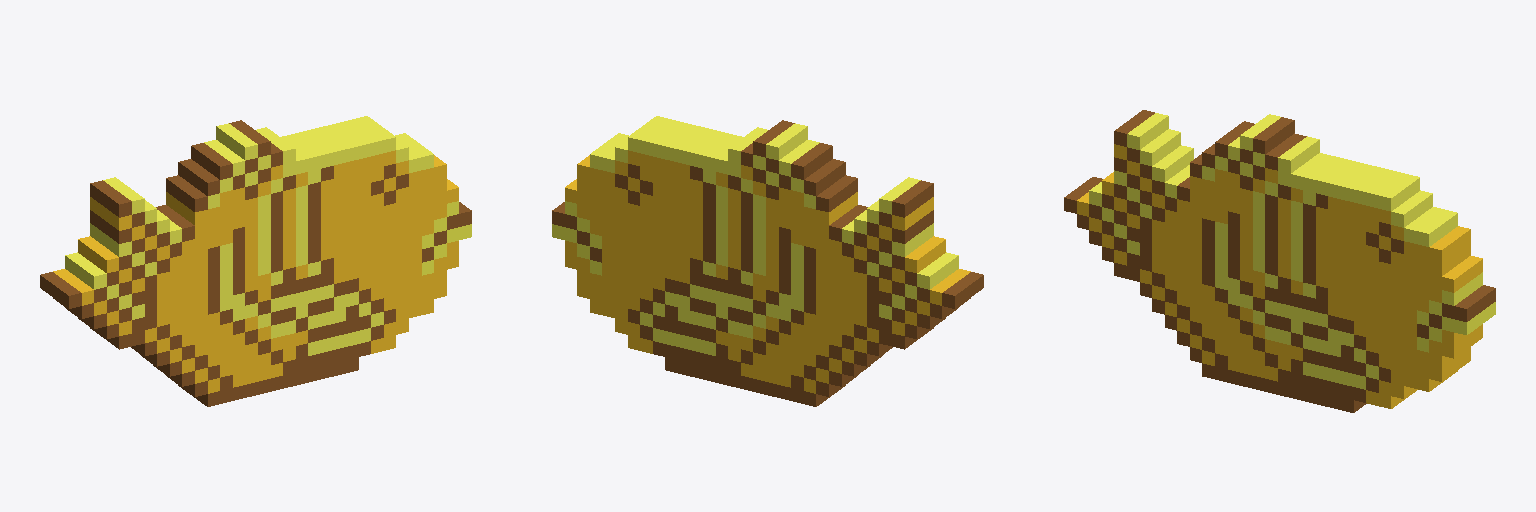
3 renders of one model, left to right at view 1: azimuth 30°, elevation 25°; view 2: azimuth 150°, elevation 25°; view 3: azimuth 330°, elevation 25°, orthographic.
Visible parts, largest first — view 1: object 1; view 2: object 1; view 3: object 1.
Part boxes in pixels (x1,y1,x2,y2): object 1: (40, 116, 471, 406); object 1: (552, 116, 983, 406); object 1: (1064, 110, 1495, 412).
Size of the model in its own units: 3.2 by 1.9 by 0.4.
Materials: 1 (1 with a texture image).